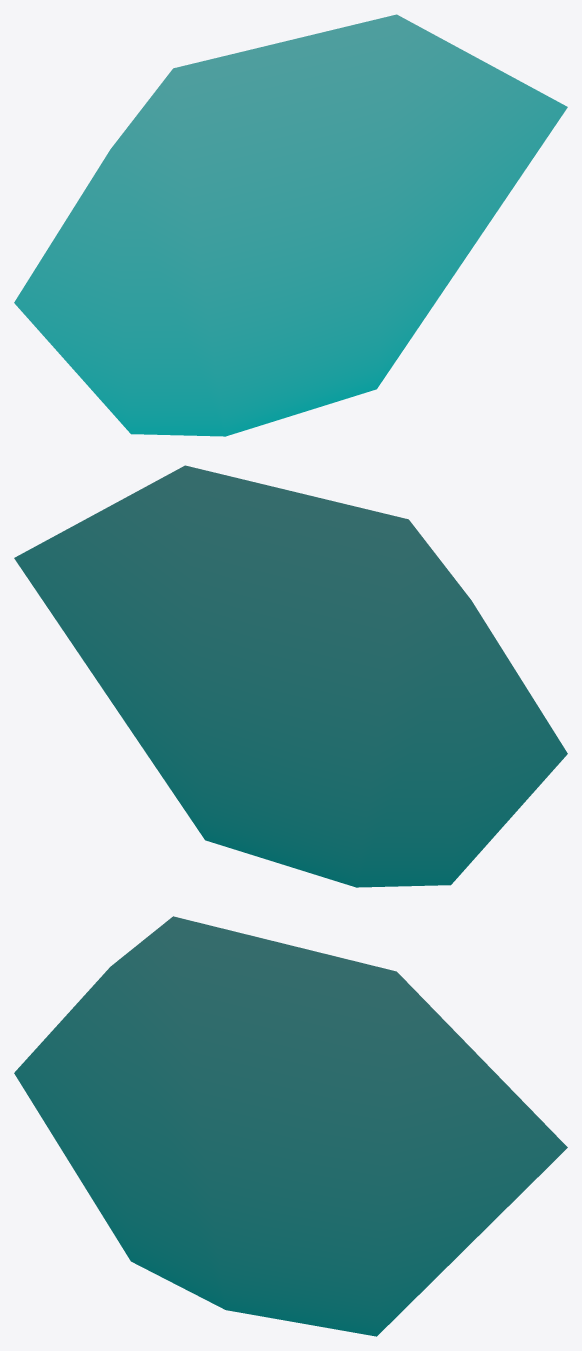
File: Ground_Cover_sfcnq_Mid_sfcnq_VarA_LOD2.fbx
3 views of the same model, one above another, from view 1: azimuth 30°, elevation 25°; view 2: azimuth 150°, elevation 25°; view 3: azimuth 330°, elevation 25° (orthographic).
Parts seen in each view (by area): view 1: _e147_VarA_LOD3; view 2: _e147_VarA_LOD3; view 3: _e147_VarA_LOD3.
Part boxes in pixels (x1,y1,x2,y2): _e147_VarA_LOD3: (14,14,567,436); _e147_VarA_LOD3: (14,465,567,887); _e147_VarA_LOD3: (14,916,567,1336).
Size of the model in its own units: 38.04 by 25 by 0.
